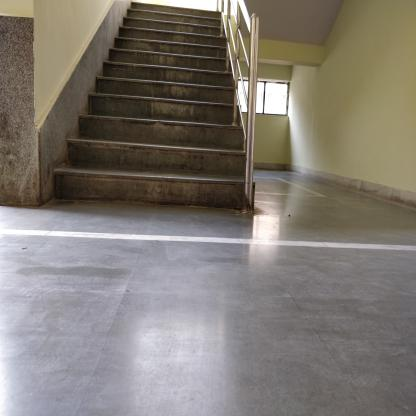stairs: (129, 5, 217, 213)
